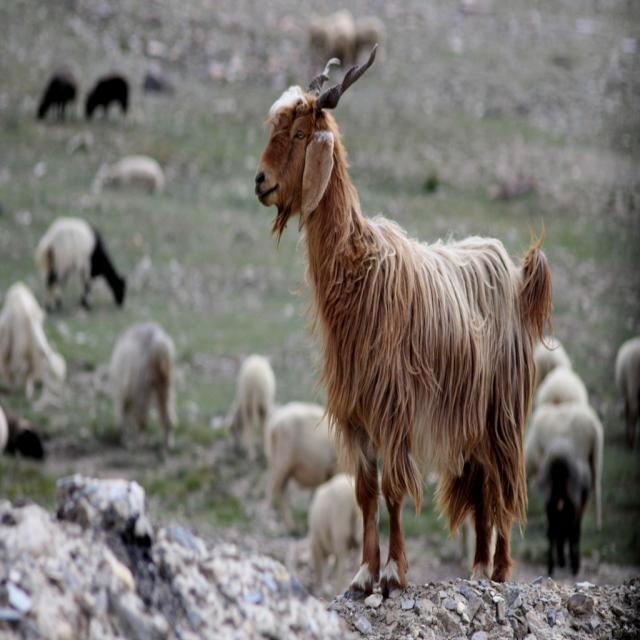Goat: (255, 41, 555, 597), (109, 320, 178, 450), (35, 215, 127, 312), (2, 280, 68, 399), (615, 334, 640, 450), (86, 73, 131, 119), (37, 72, 77, 119)
